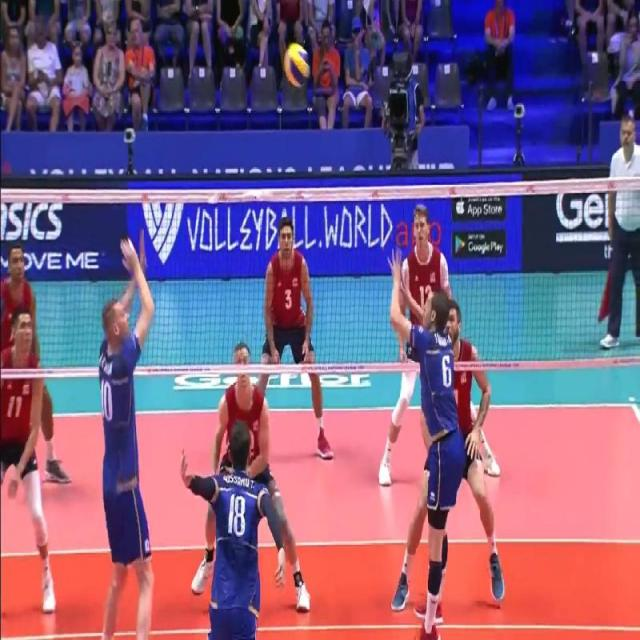volleyball: (283, 42, 310, 86)
